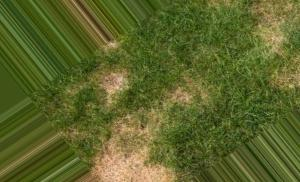patch: (102, 150, 152, 180), (260, 26, 280, 44), (107, 71, 124, 90)
